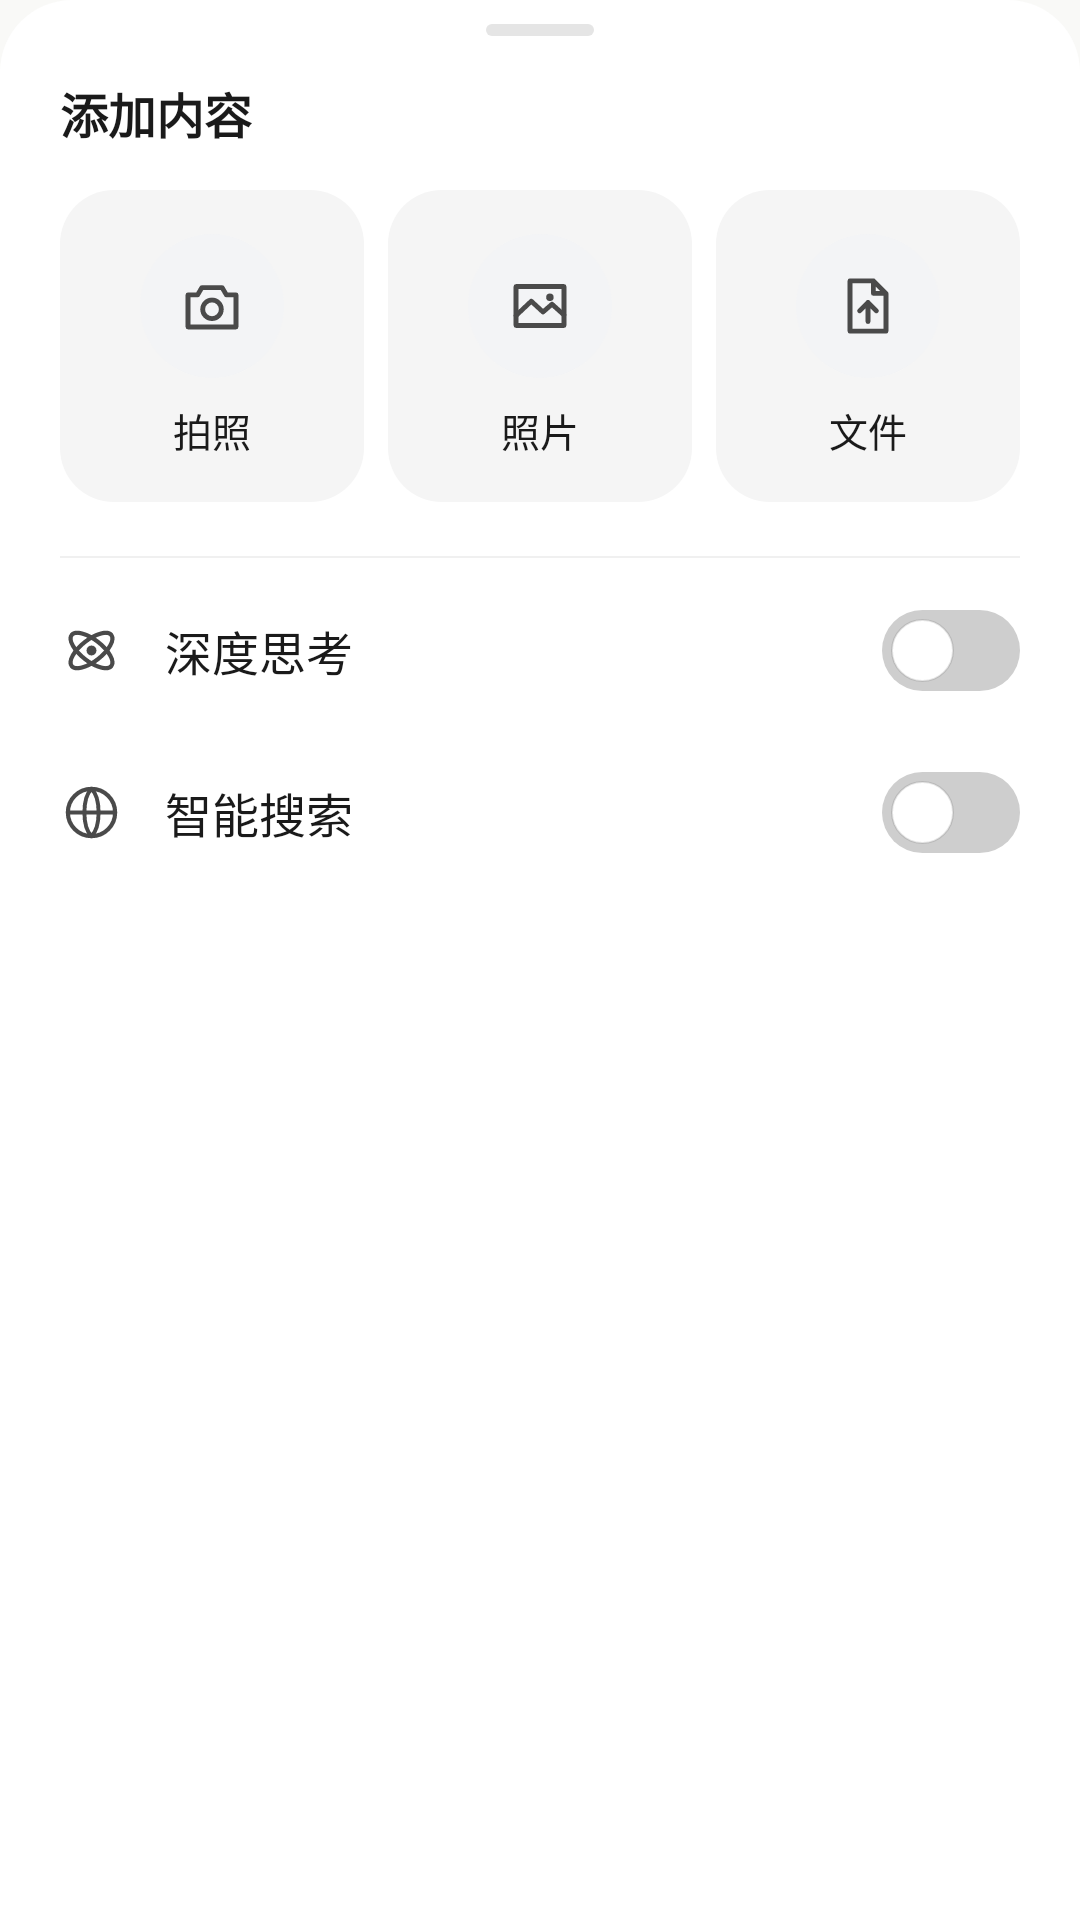

Icons on this 1080x1920 Android screen, each with the point to tap as point (x, y):
camera: point (212, 307)
file upload: point (868, 306)
globe: point (91, 812)
photo: point (540, 306)
think: point (91, 650)
